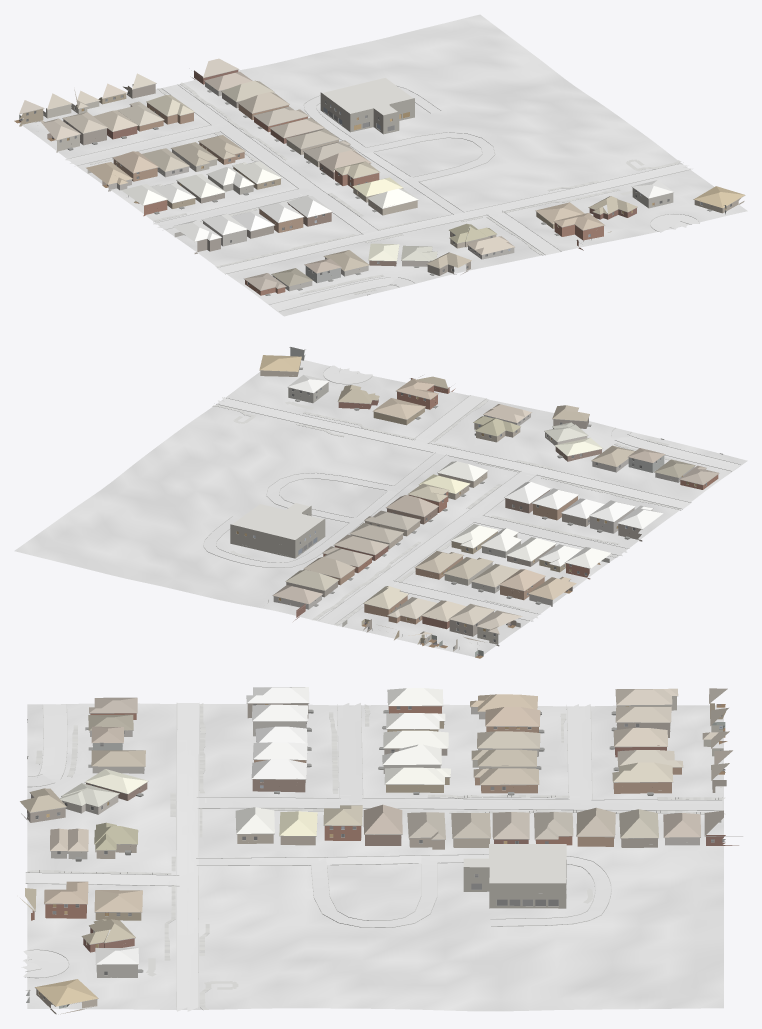
3 views of the same model, one above another, from view 1: azimuth 30°, elevation 25°; view 2: azimuth 150°, elevation 25°; view 3: azimuth 270°, elevation 25° (orthographic). The views are drawn at different scales.
Parts seen in each view (by area): view 1: ground, roof, concrete, wall, asphalt, curb, wall_stucco, detail, walk, roof_flat, wall_com, wall_stone (+1 smaller); view 2: ground, roof, concrete, wall, asphalt, curb, walk, detail, wall_stucco, roof_flat, wall_com, wall_stone; view 3: ground, roof, concrete, wall, asphalt, walk, curb, detail, roof_flat, wall_stucco, wall_com, wall_stone (+2 smaller).
Boxes of the visible parts, bbox=[...] form: ground: bbox=[19, 14, 747, 316]; roof: bbox=[19, 58, 744, 290]; concrete: bbox=[65, 85, 699, 311]; wall: bbox=[19, 70, 744, 295]; asphalt: bbox=[217, 164, 693, 273]; curb: bbox=[66, 84, 699, 311]; wall_stucco: bbox=[43, 101, 726, 283]; detail: bbox=[19, 69, 745, 309]; walk: bbox=[89, 82, 680, 294]; roof_flat: bbox=[322, 78, 412, 115]; wall_com: bbox=[320, 92, 414, 134]; wall_stone: bbox=[108, 82, 514, 291]; ground: bbox=[14, 355, 747, 656]; roof: bbox=[259, 355, 718, 642]; concrete: bbox=[203, 365, 740, 624]; wall: bbox=[260, 362, 718, 640]; asphalt: bbox=[218, 397, 690, 508]; curb: bbox=[203, 366, 740, 624]; walk: bbox=[212, 399, 695, 626]; detail: bbox=[236, 347, 722, 650]; wall_stucco: bbox=[288, 347, 664, 651]; roof_flat: bbox=[232, 503, 323, 539]; wall_com: bbox=[230, 506, 325, 558]; wall_stone: bbox=[273, 414, 694, 609]; ground: bbox=[27, 703, 723, 1011]; roof: bbox=[20, 687, 732, 1006]; concrete: bbox=[21, 703, 722, 977]; wall: bbox=[21, 703, 738, 1014]; asphalt: bbox=[176, 703, 198, 1011]; walk: bbox=[26, 703, 725, 1009]; curb: bbox=[25, 703, 722, 1010]; detail: bbox=[26, 691, 742, 1006]; roof_flat: bbox=[463, 844, 566, 883]; wall_stucco: bbox=[26, 696, 723, 1002]; wall_com: bbox=[463, 860, 566, 908]; wall_stone: bbox=[51, 707, 699, 859].
Size of the model in its own units: 257 by 14.37 by 263.
